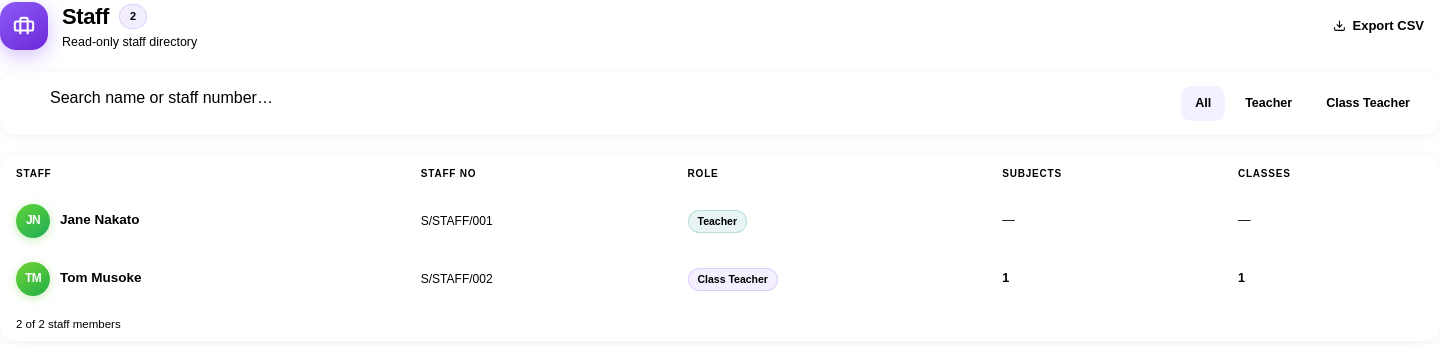
Test case: DeputyStaffPage › shows "No matching staff" when search finds nothing
expect the text "Jane Nakato" is shown: met, box [60,210,140,231]
Type "zzznomatch" into the field with placeholder "Search name or staff number…".
click(594, 98); type("zzznomatch")  # box [16,86,1171,110]
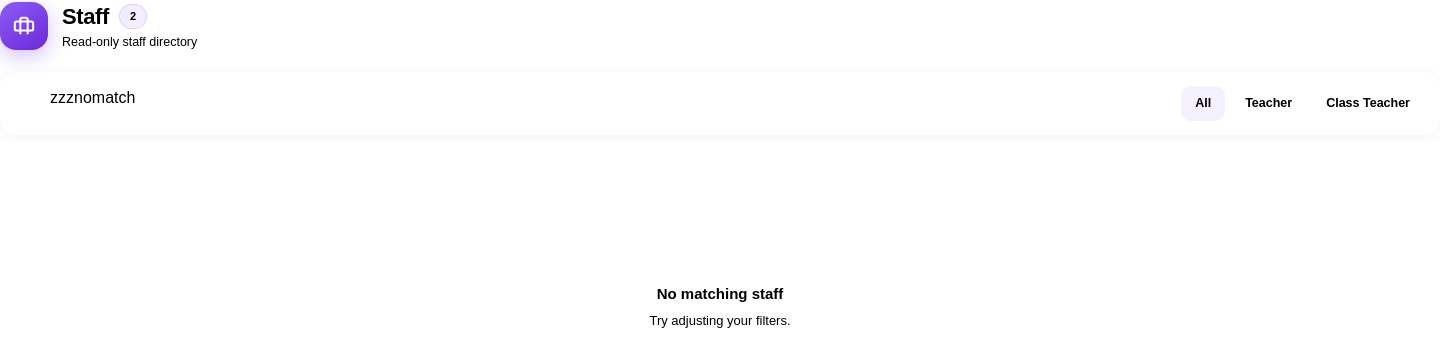
expect the text "No matching staff" is shown: met, box [657,284,783,302]
